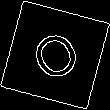O_SE: (24, 22, 86, 88)
